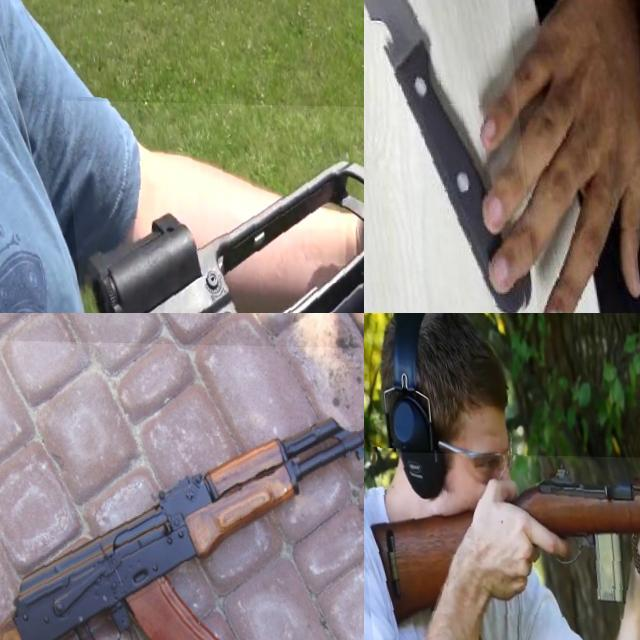-: (364, 0, 527, 313)
gun-knife-thesis - v11 Yolov5 augmented: (0, 336, 364, 640), (58, 99, 364, 313), (364, 451, 640, 640)
